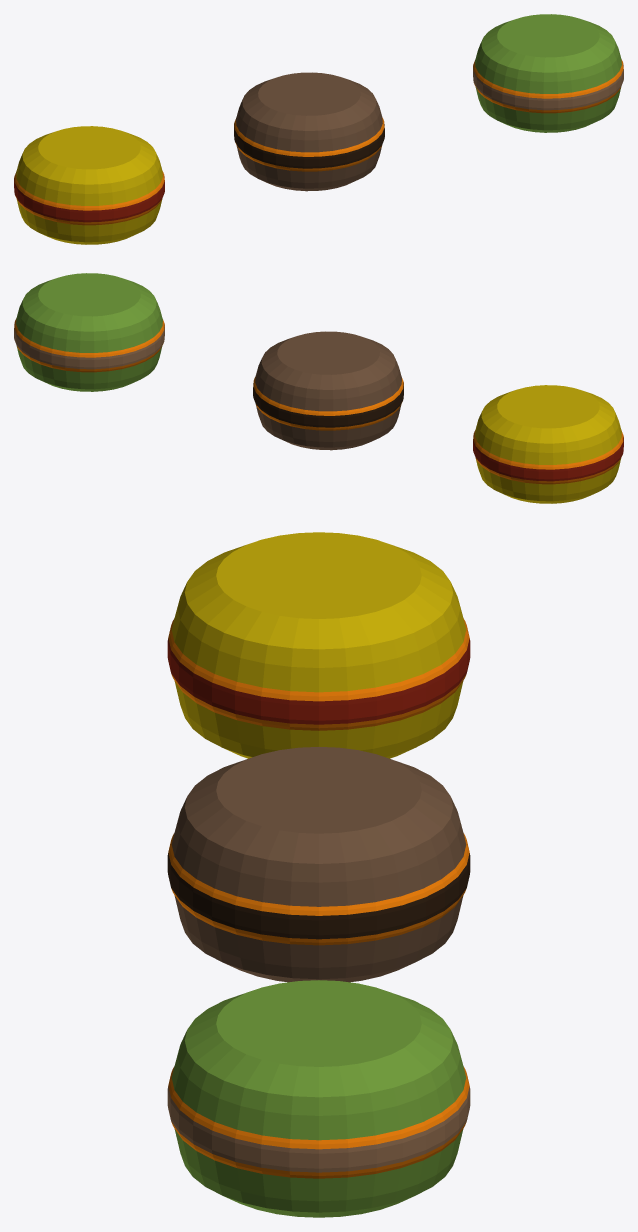
The model's file is Burgers1.fbx.
3 renders of one model, top to bottom at view 1: azimuth 30°, elevation 25°; view 2: azimuth 150°, elevation 25°; view 3: azimuth 270°, elevation 25°, orthographic. The views are drawn at different scales.
Parts seen in each view (by area): view 1: Burger1, Burger1.001, Burger1.002; view 2: Burger1, Burger1.001, Burger1.002; view 3: Burger1.002, Burger1, Burger1.001.
Part boxes in pixels (<box>): Burger1: <box>234,72,384,191</box>; Burger1.001: <box>14,126,164,244</box>; Burger1.002: <box>473,14,623,132</box>; Burger1: <box>253,331,403,450</box>; Burger1.001: <box>473,385,623,503</box>; Burger1.002: <box>14,273,164,391</box>; Burger1.002: <box>167,980,470,1217</box>; Burger1: <box>167,747,470,982</box>; Burger1.001: <box>167,532,470,758</box>.
Size of the model in its own units: 0.9629 by 0.1149 by 0.214.
3 materials, 3 textured.
